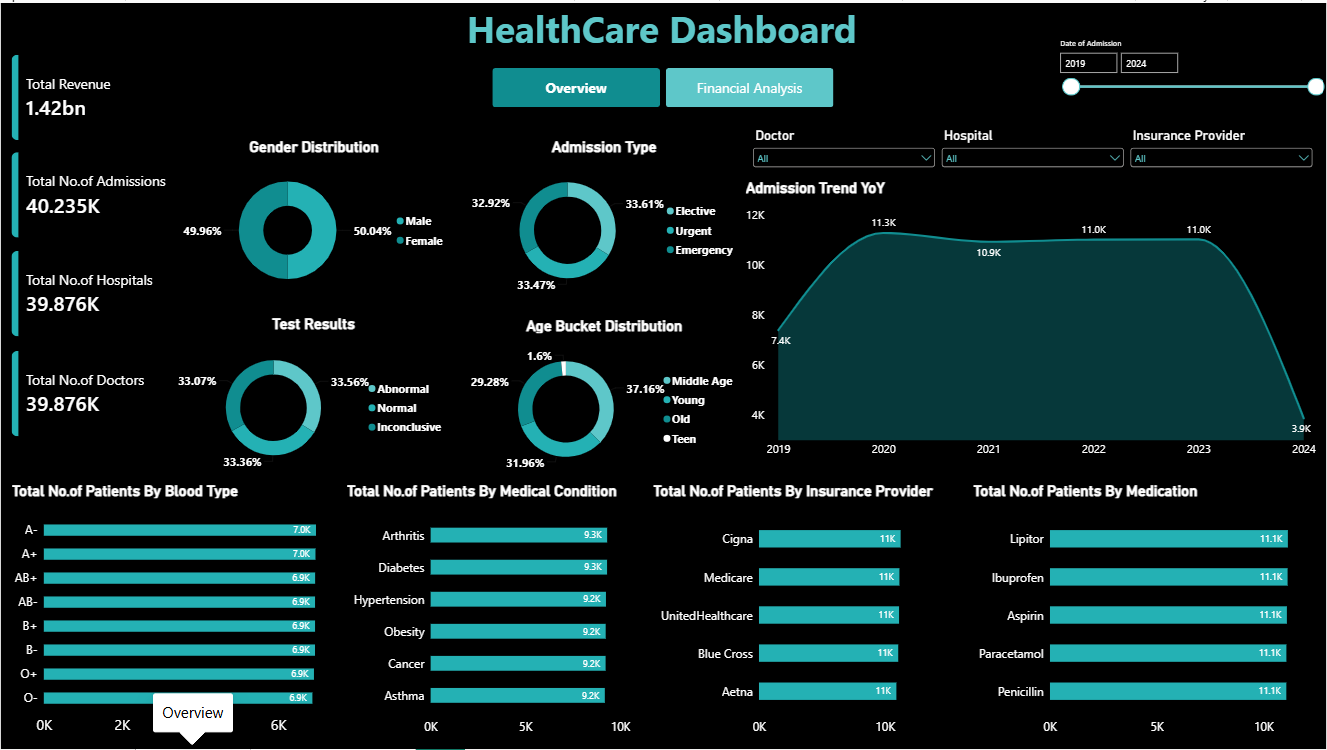

The page's visual inventory and layout, read from the dashboard file:
{"tool":"powerbi","page":{"name":"Overview","canvas":[1920,1080],"ordinal":0},"visuals":[{"type":"cardVisual","fields":{"Data":["Sum(healthcare_dataset.Billing Amount)"]},"box":[14.4,74.1,244.9,125.6],"z":0},{"type":"cardVisual","fields":{"Data":["Count(healthcare_dataset.Name)"]},"box":[14.4,216.1,244.9,125.6],"z":1000},{"type":"cardVisual","fields":{"Data":["Count(healthcare_dataset.Hospital)"]},"box":[14.4,358.1,244.9,125.6],"z":2000},{"type":"cardVisual","fields":{"Data":["Count(healthcare_dataset.Hospital)"]},"box":[14.4,502.2,244.9,125.6],"z":3000},{"type":"barChart","title":"Total No.of Patients By Blood Type","fields":{"Category":["healthcare_dataset.Blood Type"],"Y":["CountNonNull(healthcare_dataset.Name)"]},"box":[0,679.2,485.8,401.4],"z":4000},{"type":"barChart","title":"Total No.of Patients By Medical Condition","fields":{"Y":["CountNonNull(healthcare_dataset.Name)"],"Category":["healthcare_dataset.Medical Condition"]},"box":[485.8,679.2,442.5,401.4],"z":5000},{"type":"barChart","title":"Total No.of Patients By Insurance Provider","fields":{"Category":["healthcare_dataset.Insurance Provider"],"Y":["CountNonNull(healthcare_dataset.Insurance Provider)"]},"box":[928.3,679.2,473.4,401.4],"z":6000},{"type":"barChart","title":"Total No.of Patients By Medication","fields":{"Category":["healthcare_dataset.Medication"],"Y":["CountNonNull(healthcare_dataset.Name)"]},"box":[1391.4,679.2,529,401.4],"z":7000},{"type":"donutChart","title":"Gender Distribution","fields":{"Category":["healthcare_dataset.Gender"],"Y":["CountNonNull(healthcare_dataset.Gender)"]},"box":[242.9,181.1,422,257.3],"z":8000},{"type":"pieChart","title":"Admission Type","fields":{"Y":["CountNonNull(healthcare_dataset.Admission Type)"],"Category":["healthcare_dataset.Admission Type"]},"box":[662.8,181.1,422,257.3],"z":9000},{"type":"pieChart","title":"Test Results","fields":{"Category":["healthcare_dataset.Test Results"],"Y":["CountNonNull(healthcare_dataset.Test Results)"]},"box":[242.9,438.4,419.9,257.3],"z":10000},{"type":"pieChart","title":"Age Bucket Distribution","fields":{"Category":["healthcare_dataset.Age Bucket"],"Y":["CountNonNull(healthcare_dataset.Age Bucket)"]},"box":[662.8,440.5,422,257.3],"z":11000},{"type":"lineChart","title":"Admission Trend YoY","fields":{"Category":["healthcare_dataset.Date of Admission"],"Y":["CountNonNull(healthcare_dataset.Name)"]},"box":[1062.3,240.7,857.8,437.9],"z":12000},{"type":"slicer","fields":{"Values":["healthcare_dataset.Doctor"]},"box":[1084,181,273.3,59.7],"z":13000},{"type":"slicer","fields":{"Values":["healthcare_dataset.Hospital"]},"box":[1357.2,181,273.3,59.7],"z":14000},{"type":"slicer","fields":{"Values":["healthcare_dataset.Insurance Provider"]},"box":[1630.5,181,273.3,59.7],"z":15000},{"type":"slicer","fields":{"Values":["healthcare_dataset.Date of Admission"]},"box":[1525.5,50.7,394.5,86.9],"z":16000},{"type":"textbox","box":[602.6,0,707.6,74.2],"z":17000},{"type":"pageNavigator","box":[711.2,94.1,494,57.9],"z":18000}]}

Visuals, with their boxes in screenshot pixels (x1, y1, x2, y2), scaled from the page's 1920x1080 canvas onto the 1327x750 screenshot:
cardVisual - Sum(healthcare_dataset.Billing Amount): [10, 51, 179, 139]
cardVisual - Count(healthcare_dataset.Name): [10, 150, 179, 237]
cardVisual - Count(healthcare_dataset.Hospital): [10, 249, 179, 336]
cardVisual - Count(healthcare_dataset.Hospital): [10, 349, 179, 436]
"Total No.of Patients By Blood Type" barChart: [0, 472, 336, 749]
"Total No.of Patients By Medical Condition" barChart: [336, 472, 642, 749]
"Total No.of Patients By Insurance Provider" barChart: [642, 472, 969, 749]
"Total No.of Patients By Medication" barChart: [962, 472, 1326, 749]
"Gender Distribution" donutChart: [168, 126, 460, 304]
"Admission Type" pieChart: [458, 126, 750, 304]
"Test Results" pieChart: [168, 304, 458, 483]
"Age Bucket Distribution" pieChart: [458, 306, 750, 485]
"Admission Trend YoY" lineChart: [734, 167, 1326, 471]
slicer - healthcare_dataset.Doctor: [749, 126, 938, 167]
slicer - healthcare_dataset.Hospital: [938, 126, 1127, 167]
slicer - healthcare_dataset.Insurance Provider: [1127, 126, 1316, 167]
slicer - healthcare_dataset.Date of Admission: [1054, 35, 1326, 96]
textbox: [416, 0, 906, 52]
pageNavigator: [492, 65, 833, 106]
